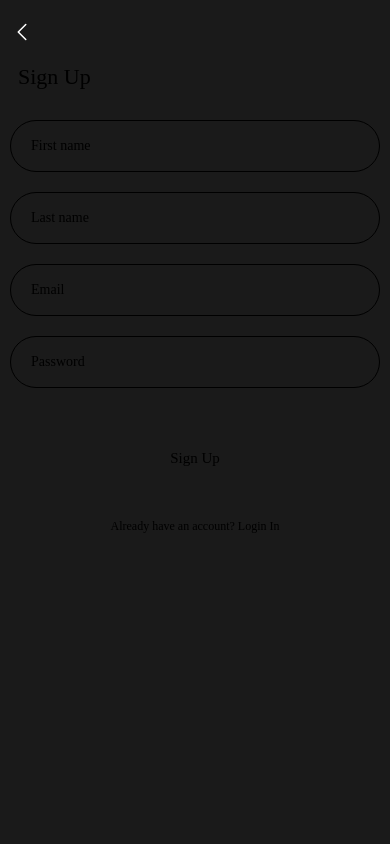
RegisterScreen › Validation › Error Cleaning › should clear Last name error when last name input is focused
Click the element with test id "Register". click: {"x": 195, "y": 458}
box: [170,450,220,466]
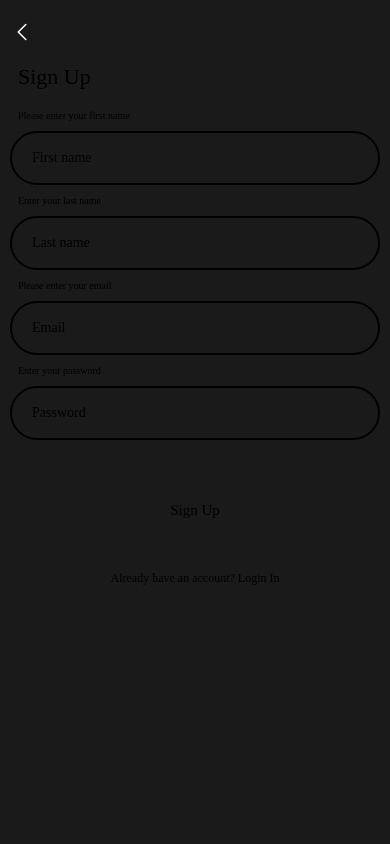
Expected: the text "Enter your last name" is shown, [18,195,101,206]
Focus the field with placeholder "Last name". click: {"x": 195, "y": 243}
box: [12,218,378,268]
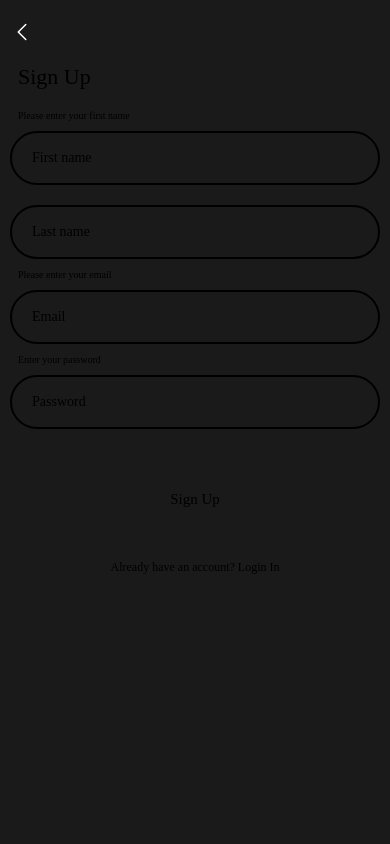
Expected: the text "Enter your last name" is gone
